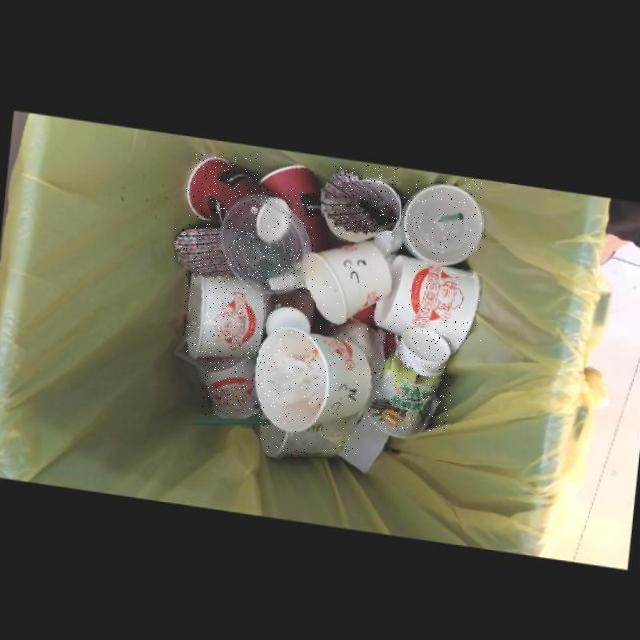paper: (256, 323, 374, 428), (375, 249, 481, 350), (367, 322, 451, 431), (305, 235, 392, 320), (185, 271, 265, 356), (259, 160, 332, 248), (322, 165, 398, 237), (261, 407, 360, 456), (186, 153, 261, 217), (202, 353, 262, 415), (174, 225, 233, 274), (265, 283, 316, 332)
plastic: (222, 190, 314, 290), (401, 179, 483, 256)
